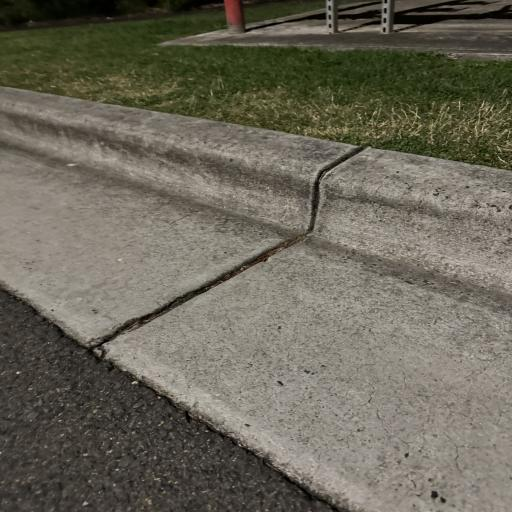kerb: (0, 88, 512, 512)
